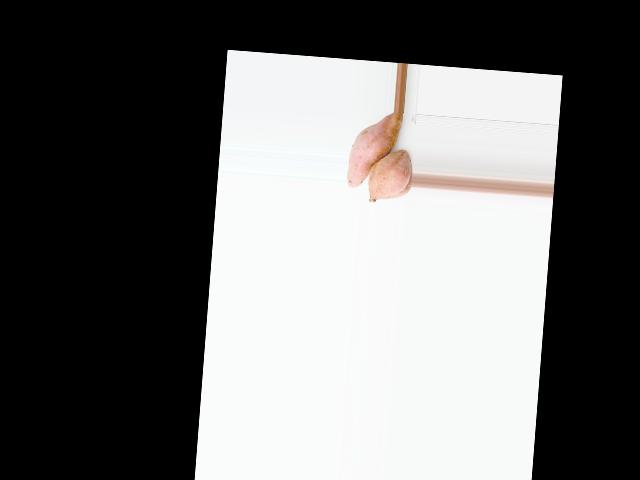sweet_potato: (370, 150, 408, 205)
